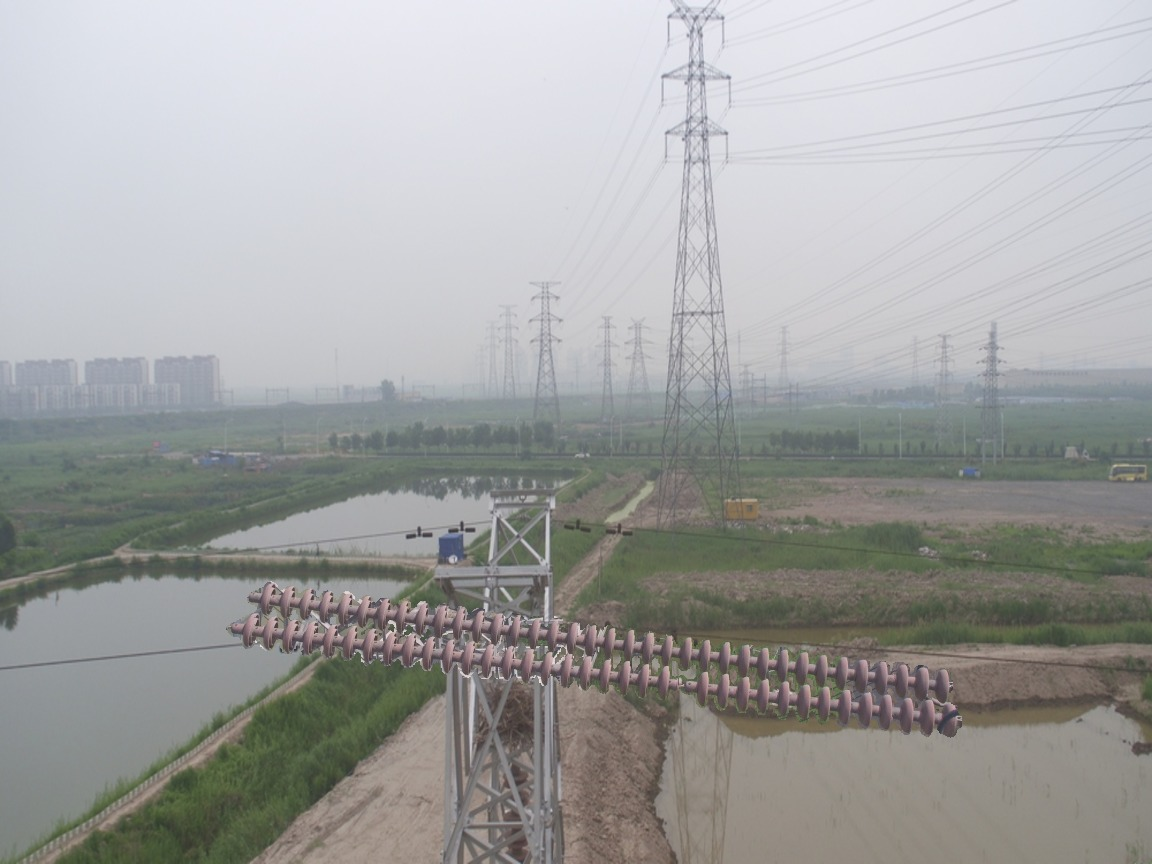defect: (651, 665, 717, 707)
